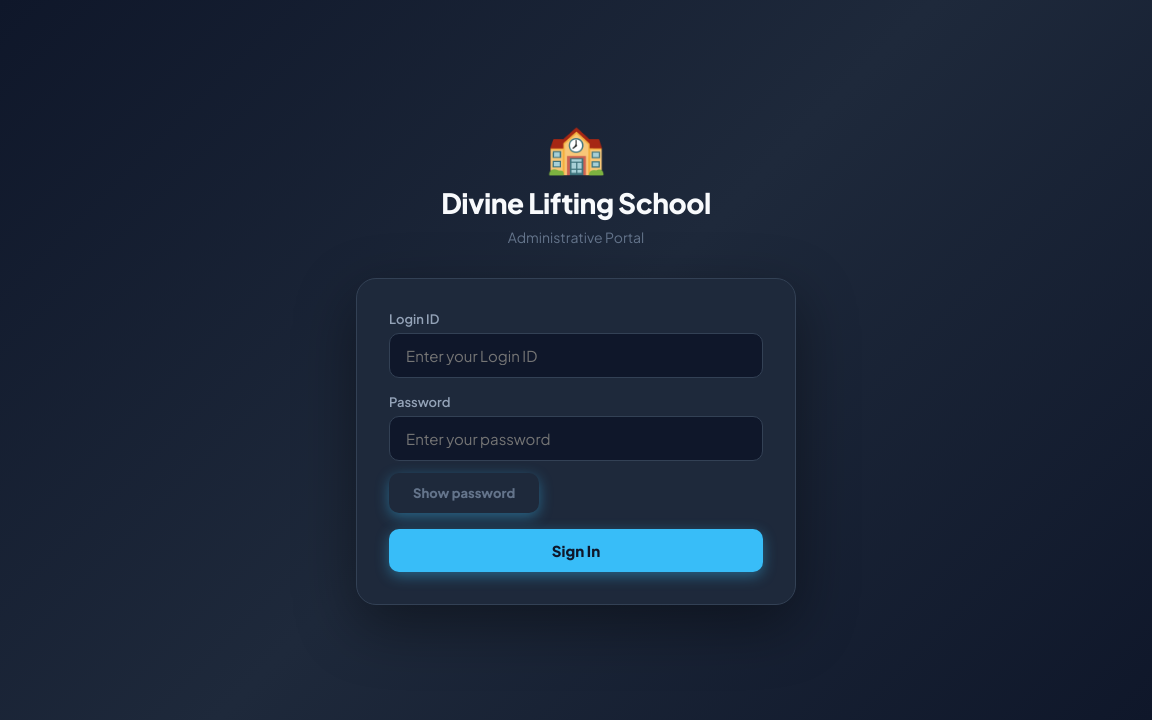
Test case: Login component › shows error on RPC failure
In the field labelled "Login ID": (576, 356) [389, 333, 763, 378], type "ADM-001"
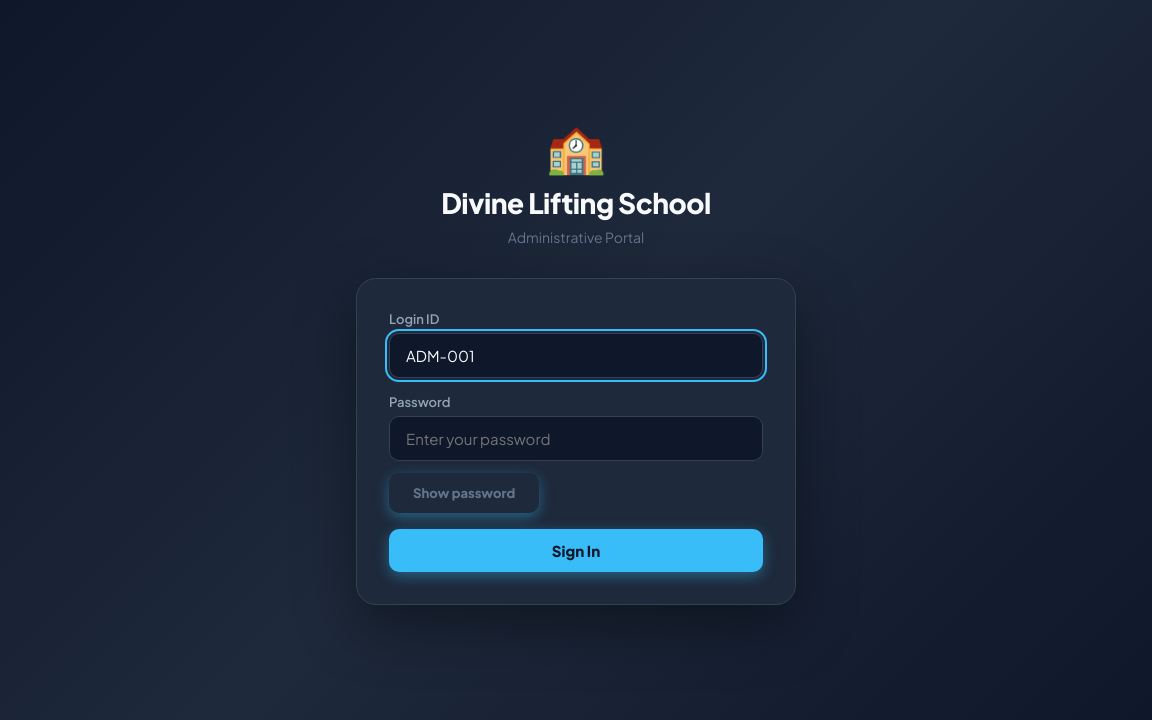
In the password field labelled "password": (576, 438) [389, 416, 763, 461], type "x"
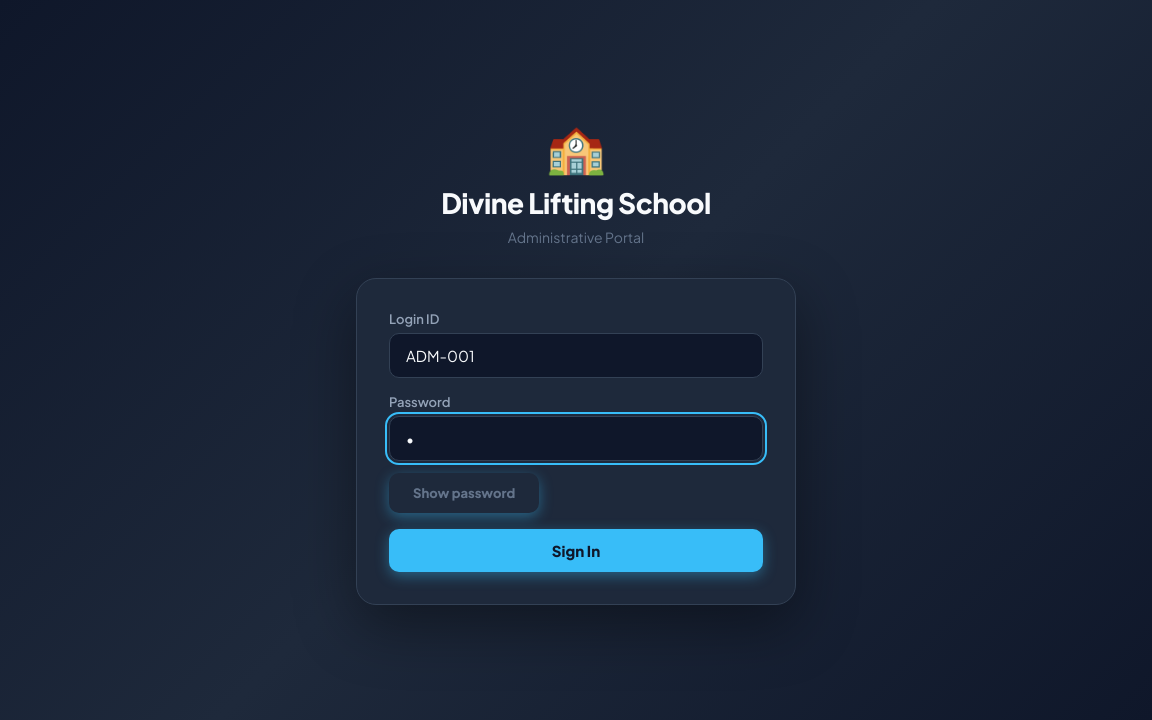
Click the button "Sign In": click(576, 550) [389, 529, 763, 572]
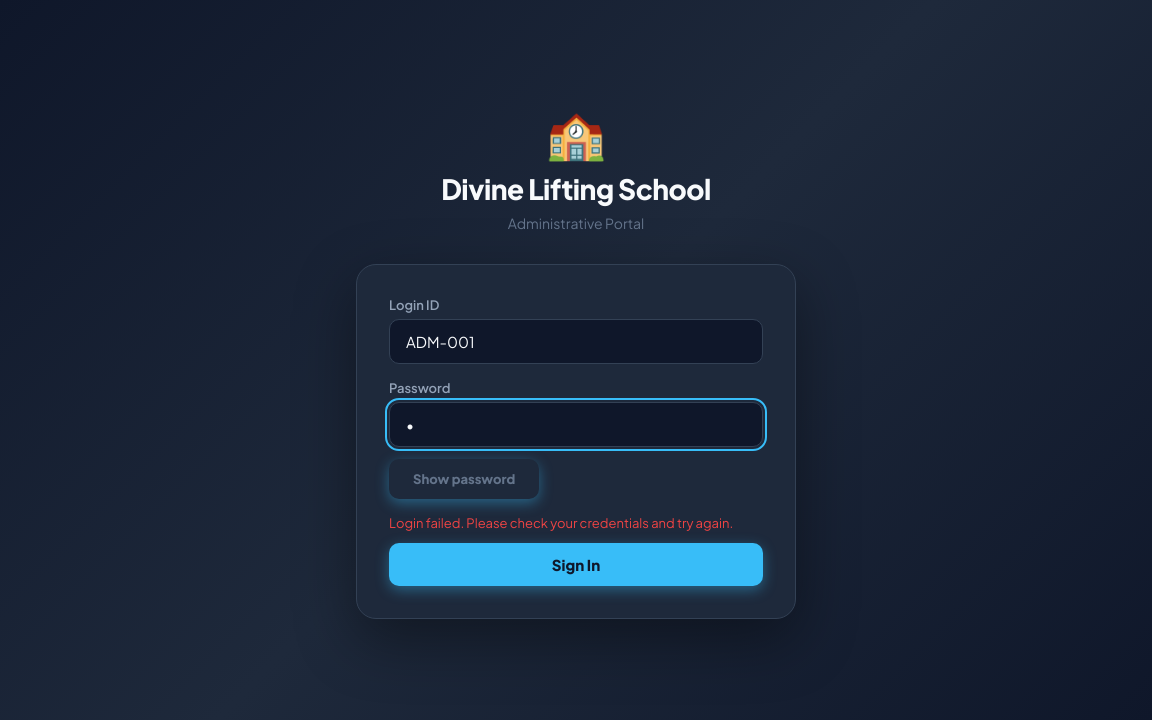
expect the text "Login failed. Please check your credentials and try again." is shown: met, box [389, 515, 763, 531]
